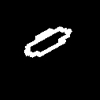chain: (24, 27, 71, 56)
